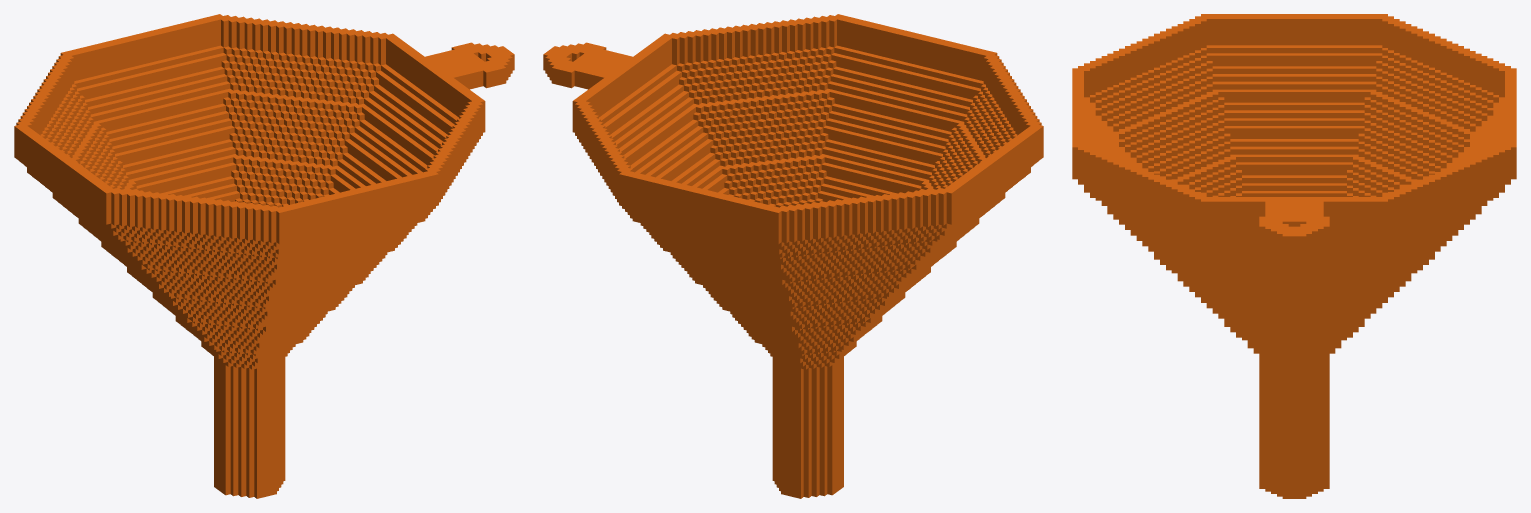
Rendered from funnel.glb.
The picture shows the model from 3 angles, left to right: view 1: azimuth 30°, elevation 25°; view 2: azimuth 150°, elevation 25°; view 3: azimuth 270°, elevation 25°; orthographic projection.
Visible parts, largest first — view 1: funnel:compound; view 2: funnel:compound; view 3: funnel:compound.
Boxes of the visible parts, bbox=[...] form: funnel:compound: bbox=[14, 14, 514, 498]; funnel:compound: bbox=[543, 14, 1043, 498]; funnel:compound: bbox=[1072, 14, 1516, 498].
Bounding box in the file's own units: 0.18 × 0.142 × 0.152.
